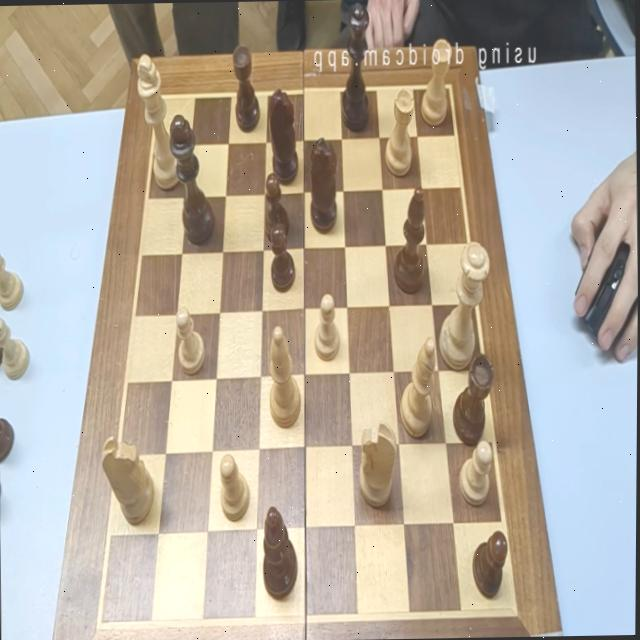black_bishop: (392, 185, 426, 294), (262, 506, 299, 600)
black_king: (168, 114, 214, 245)
black_knight: (267, 88, 299, 186), (309, 137, 338, 234)
black_pawn: (472, 530, 509, 599), (263, 172, 289, 243), (270, 222, 296, 292)
black_queen: (339, 2, 371, 132)
black_rook: (452, 353, 495, 447), (231, 43, 261, 132)
white_bishop: (398, 336, 437, 438), (268, 325, 302, 428)
white_king: (136, 54, 178, 190)
white_knight: (101, 435, 155, 525), (359, 420, 398, 507)
white_pawn: (458, 439, 493, 506), (219, 453, 251, 521), (176, 306, 206, 374), (313, 294, 341, 362)
white_queen: (437, 240, 492, 370)
white_rook: (419, 38, 453, 127), (383, 88, 415, 176)
